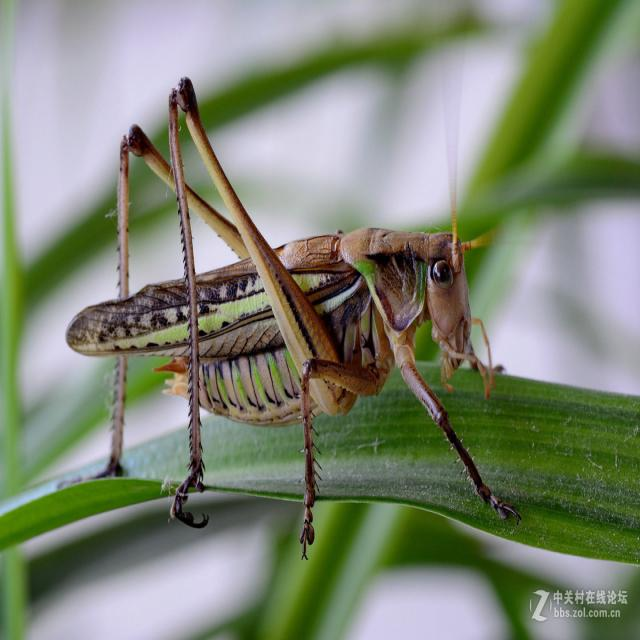ZhaMeng: (74, 70, 522, 520)
